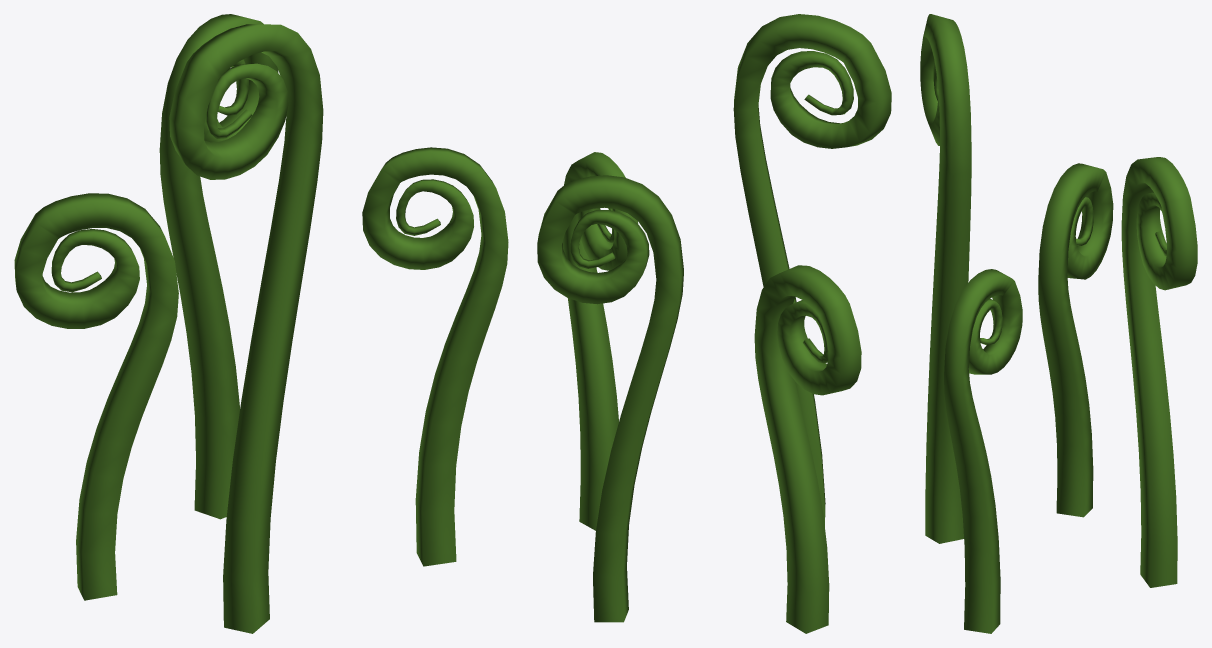
Rendered from usk_Plant-VwXvoIpCHP.glb.
3 renders of one model, left to right at view 1: azimuth 30°, elevation 25°; view 2: azimuth 150°, elevation 25°; view 3: azimuth 270°, elevation 25°, orthographic. The views are drawn at different scales.
Parts seen in each view (by area): view 1: Plant_3; view 2: Plant_3; view 3: Plant_3.
Boxes of the visible parts, x1,y1,x2,y2 form: Plant_3: [14, 14, 508, 633]; Plant_3: [537, 14, 891, 633]; Plant_3: [920, 14, 1197, 633].
Size of the model in its own units: 2.12 by 2.98 by 1.44.
1 material, 1 textured.
